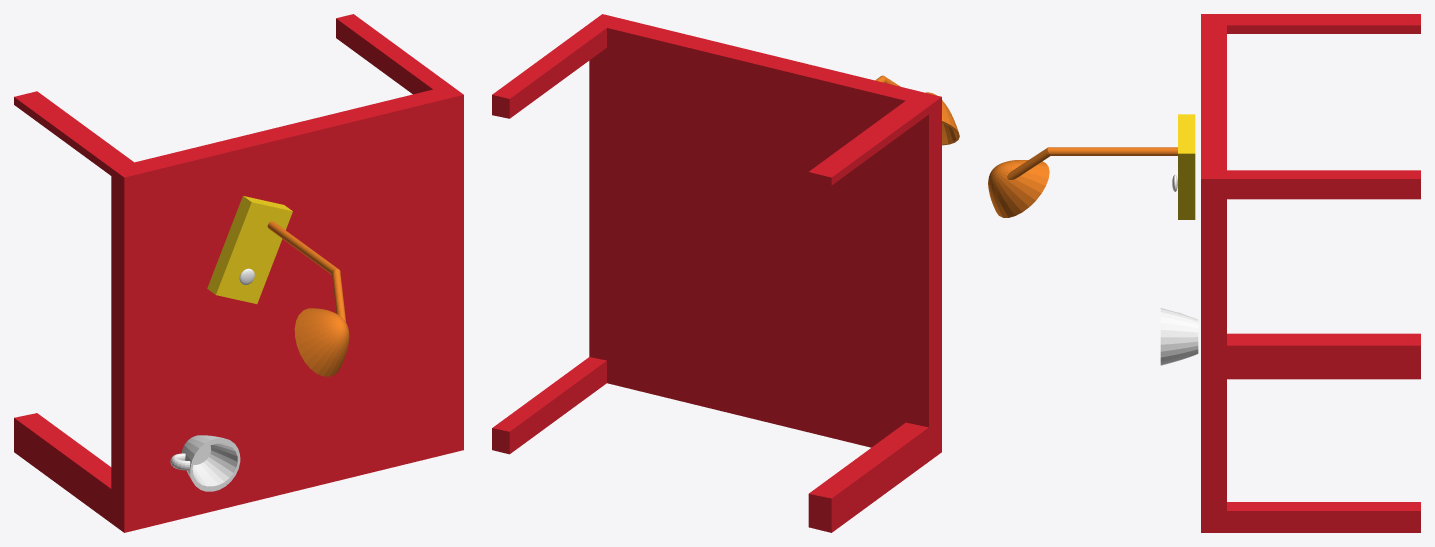
Rendered from tinker.obj.
The picture shows the model from 3 angles, left to right: view 1: azimuth 30°, elevation 25°; view 2: azimuth 150°, elevation 25°; view 3: azimuth 270°, elevation 25°; orthographic projection.
Visible parts, largest first — view 1: group_0_15277357, group_0_16768282, group_0_16089887, group_0_16448250; view 2: group_0_15277357, group_0_16089887; view 3: group_0_15277357, group_0_16089887, group_0_16448250, group_0_16768282.
Boxes of the visible parts, x1=… form: group_0_15277357: x1=14, y1=14, x2=463, y2=532; group_0_16768282: x1=207, y1=196, x2=292, y2=303; group_0_16089887: x1=267, y1=221, x2=349, y2=376; group_0_16448250: x1=170, y1=268, x2=254, y2=491; group_0_15277357: x1=492, y1=14, x2=941, y2=532; group_0_16089887: x1=875, y1=75, x2=959, y2=145; group_0_15277357: x1=1201, y1=14, x2=1420, y2=532; group_0_16089887: x1=988, y1=147, x2=1177, y2=217; group_0_16448250: x1=1160, y1=174, x2=1198, y2=365; group_0_16768282: x1=1178, y1=114, x2=1195, y2=219.
Size of the model in its own units: 135 by 135 by 150.
